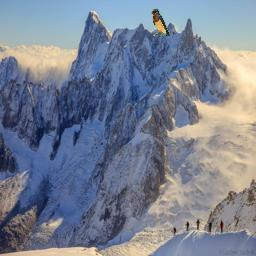Swallow: (152, 8, 171, 36)
